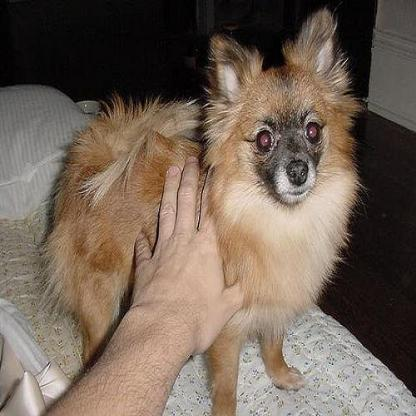Pomeranian: (35, 6, 362, 414)
